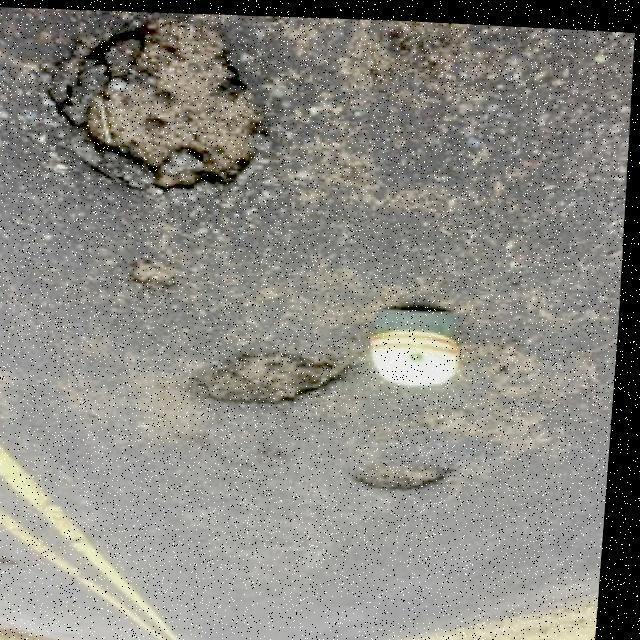pothole: (35, 2, 278, 202), (182, 336, 364, 412), (357, 447, 467, 498), (125, 250, 193, 292)
